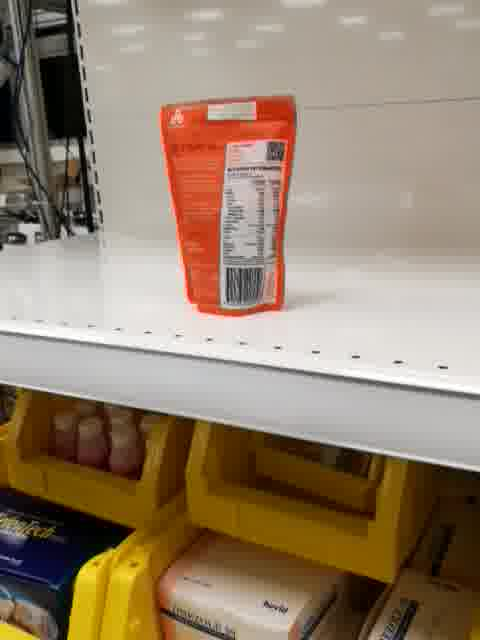whitechia: (158, 90, 298, 319)
